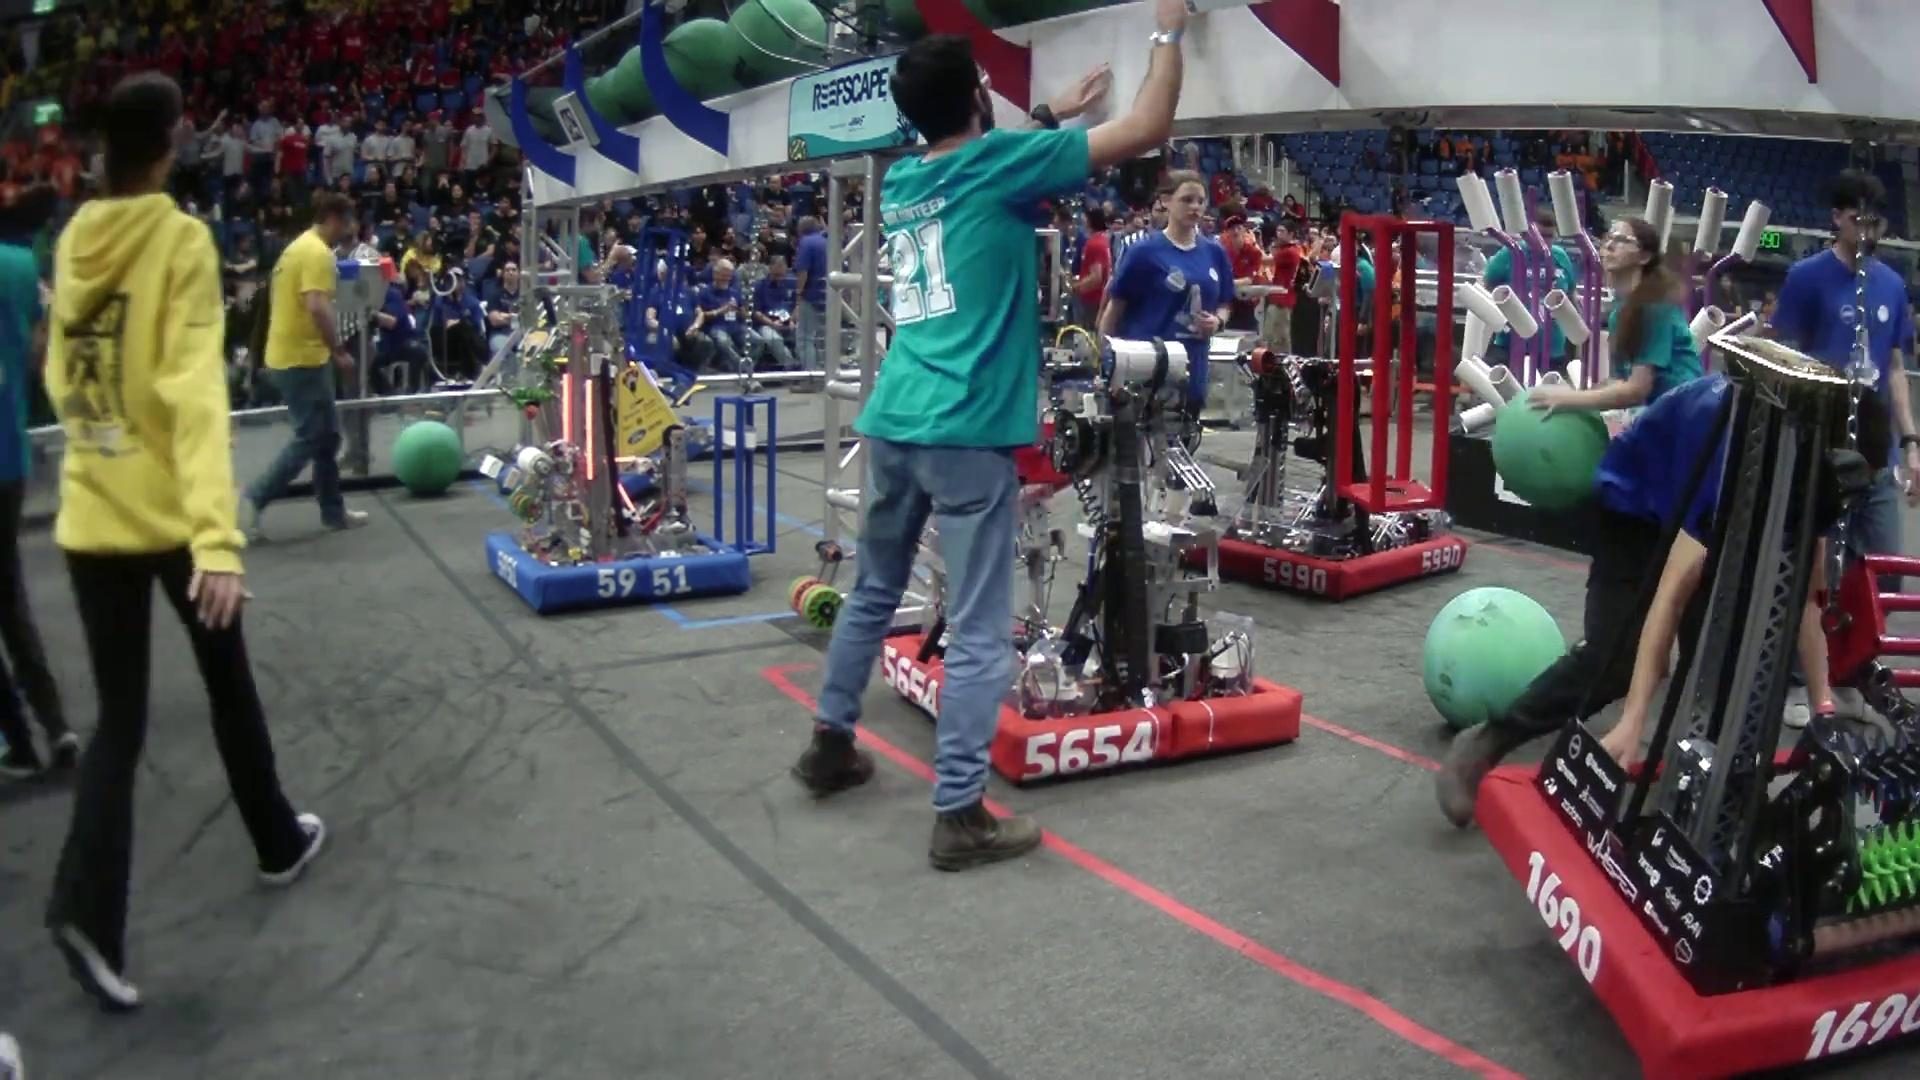robot: (1472, 310, 1920, 1080), (790, 330, 1303, 785), (480, 280, 749, 621), (1162, 328, 1466, 604), (496, 314, 683, 510)
